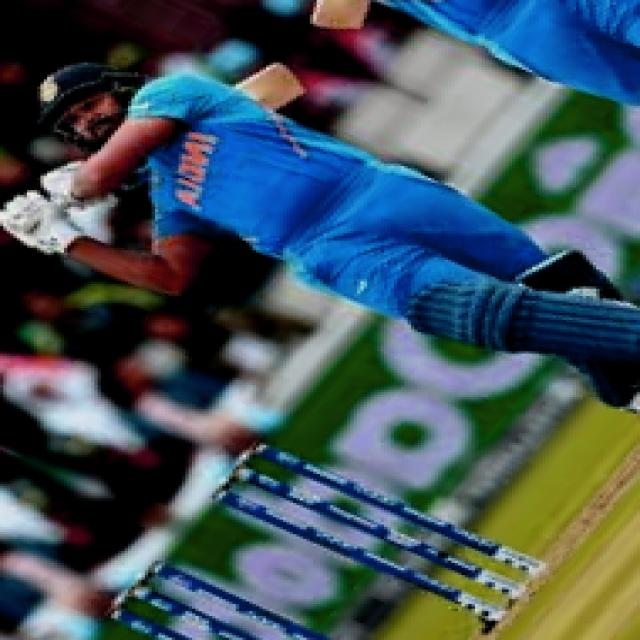toe: (253, 58, 312, 106)
